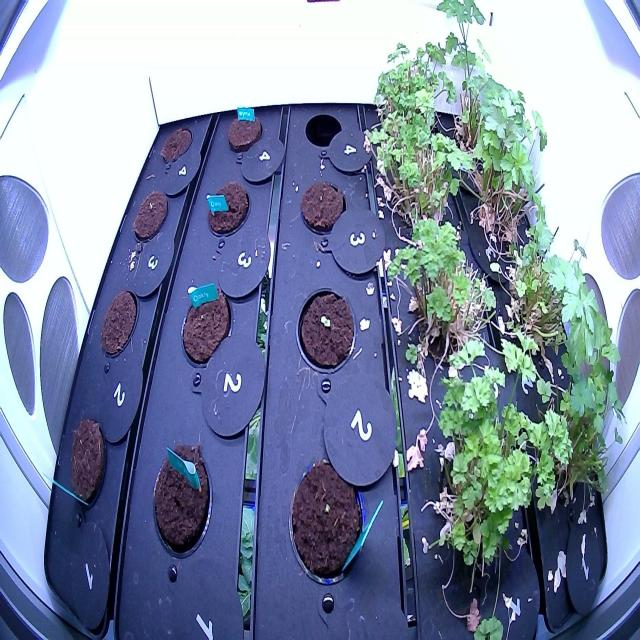empty_pod: (301, 105, 344, 160)
germination: (291, 278, 360, 382)
pod: (282, 450, 371, 596), (150, 433, 217, 568), (176, 274, 236, 375), (64, 408, 110, 520), (95, 283, 141, 367), (296, 173, 348, 240), (204, 176, 253, 246), (128, 180, 172, 253), (224, 102, 266, 162), (157, 116, 197, 176)
